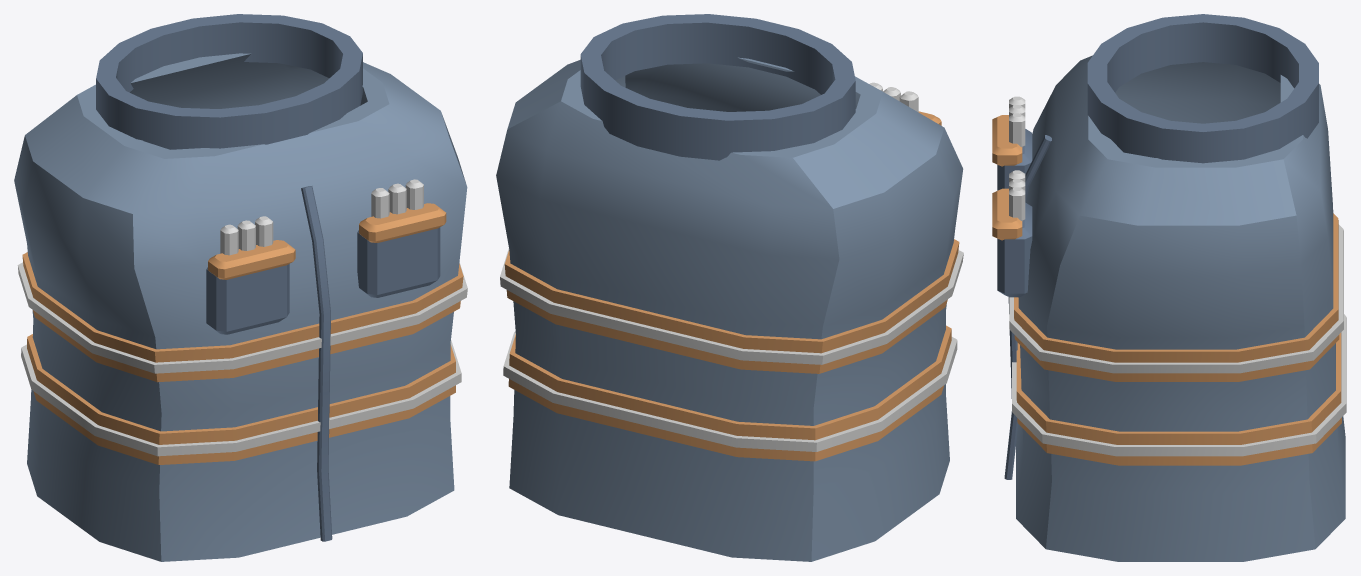
The model's file is gear_gilet_fret.glb.
3 views of the same model, side by side, from view 1: azimuth 30°, elevation 25°; view 2: azimuth 150°, elevation 25°; view 3: azimuth 270°, elevation 25° (orthographic). The views are drawn at different scales.
Visible parts, largest first — view 1: torso__gilet_fret, torso__gilet_fret_glow; view 2: torso__gilet_fret; view 3: torso__gilet_fret, torso__gilet_fret_glow.
Part boxes in pixels (x1=…): torso__gilet_fret: x1=14, y1=14, x2=467, y2=561; torso__gilet_fret_glow: x1=220, y1=179, x2=423, y2=255; torso__gilet_fret: x1=496, y1=14, x2=963, y2=561; torso__gilet_fret: x1=992, y1=14, x2=1346, y2=561; torso__gilet_fret_glow: x1=1009, y1=96, x2=1025, y2=220.
Size of the model in its own units: 0.352 by 0.3578 by 0.284.
